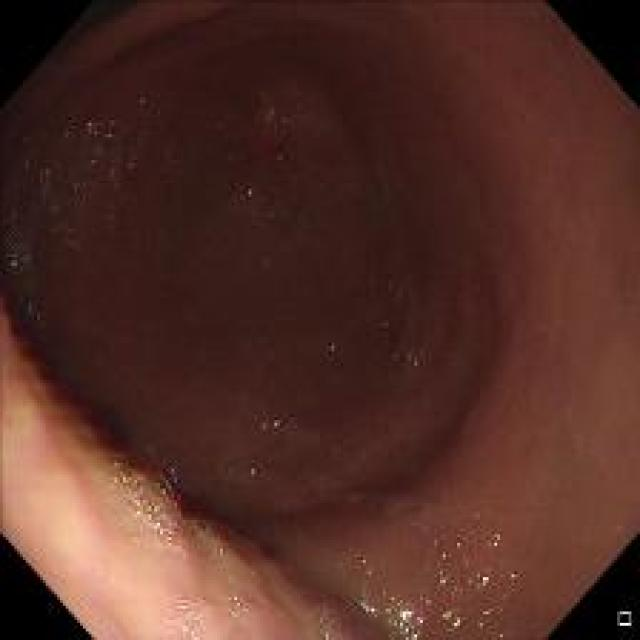bubbles: (118, 466, 186, 551), (161, 588, 205, 632), (191, 519, 230, 558), (311, 601, 346, 639), (215, 580, 248, 611), (96, 559, 111, 579)
color misalignment: (28, 114, 131, 256), (356, 561, 510, 630), (488, 526, 505, 552)
contrast: (8, 11, 495, 481)
specularity: (396, 608, 422, 636), (404, 352, 420, 369), (259, 419, 279, 430), (178, 596, 190, 611), (329, 341, 336, 350), (382, 319, 389, 328), (245, 189, 252, 196), (248, 468, 256, 474)
